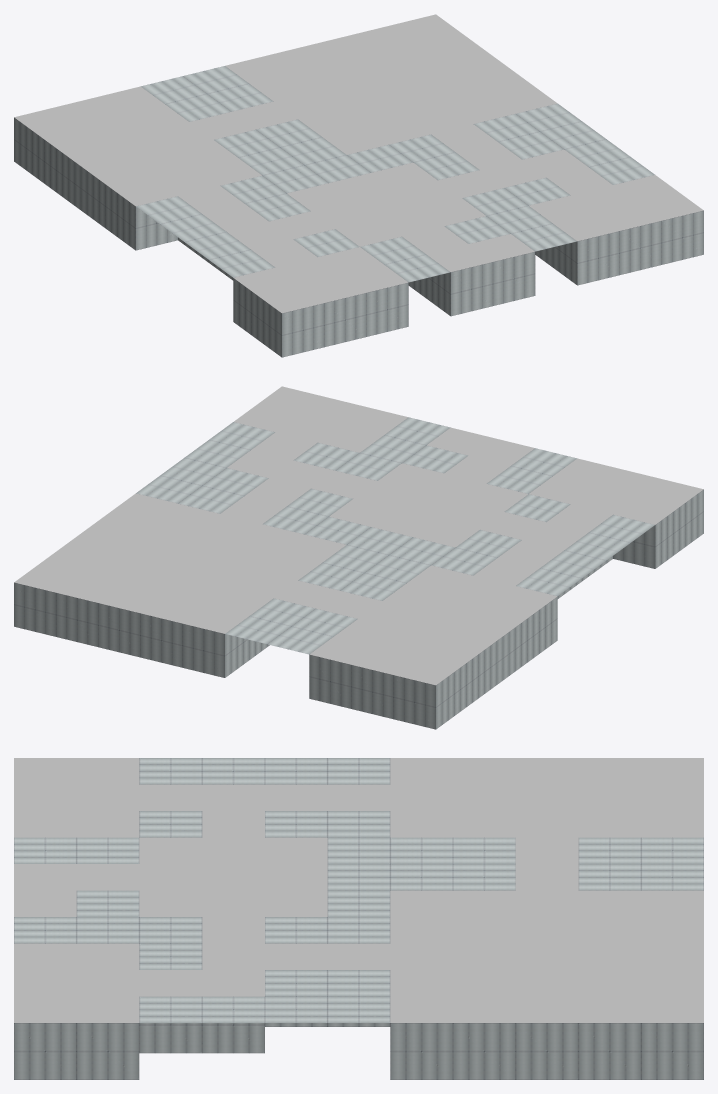
File: multi_room.fbx
3 renders of one model, top to bottom at view 1: azimuth 30°, elevation 25°; view 2: azimuth 150°, elevation 25°; view 3: azimuth 270°, elevation 25°, orthographic. The views are drawn at different scales.
Visible parts, largest first — view 1: Multi-Room_Level; view 2: Multi-Room_Level; view 3: Multi-Room_Level.
Part boxes in pixels (bbox=[...]): Multi-Room_Level: bbox=[14, 14, 703, 357]; Multi-Room_Level: bbox=[14, 386, 703, 729]; Multi-Room_Level: bbox=[14, 758, 703, 1079].
Size of the model in its own units: 5000 by 500 by 5500.
